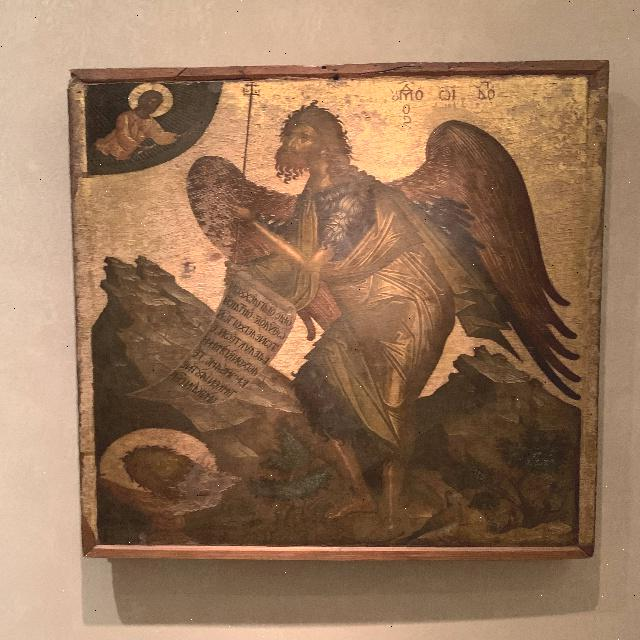christ: (98, 82, 186, 164)
scepter: (221, 83, 267, 293)
st_john: (236, 84, 564, 496)
wing: (387, 121, 598, 385), (189, 153, 297, 255)
